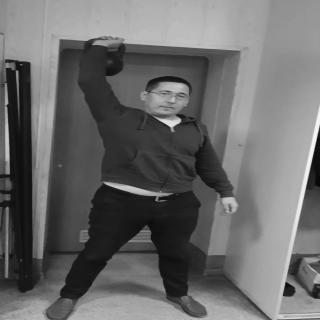girya: (82, 39, 127, 78)
